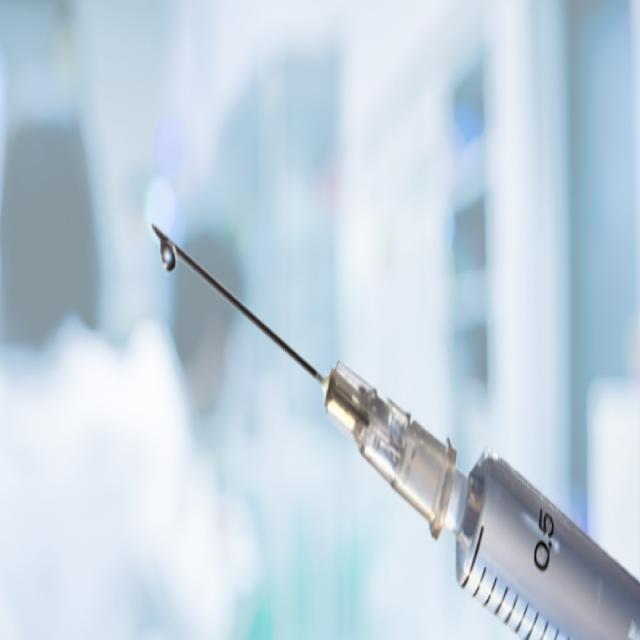syringe: (150, 219, 639, 637)
